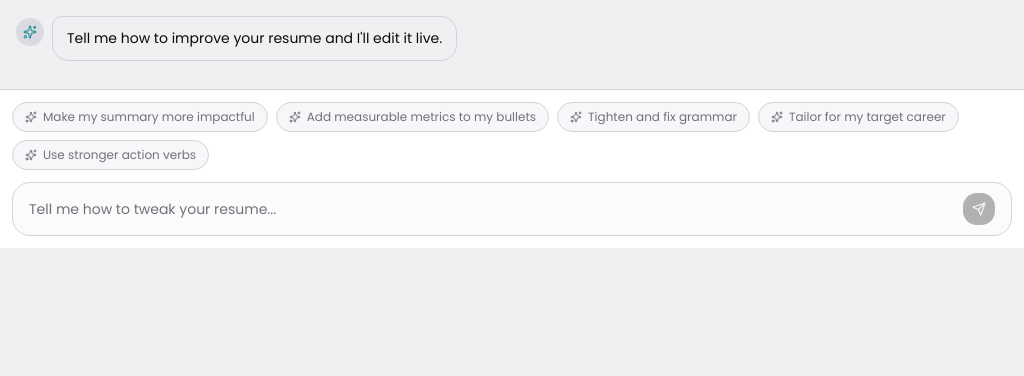
AIChatEditor conversation persistence › keeps conversations separate per resume
Click the button "Use stronger action verbs".
click(110, 155)  # box [12,140,209,170]
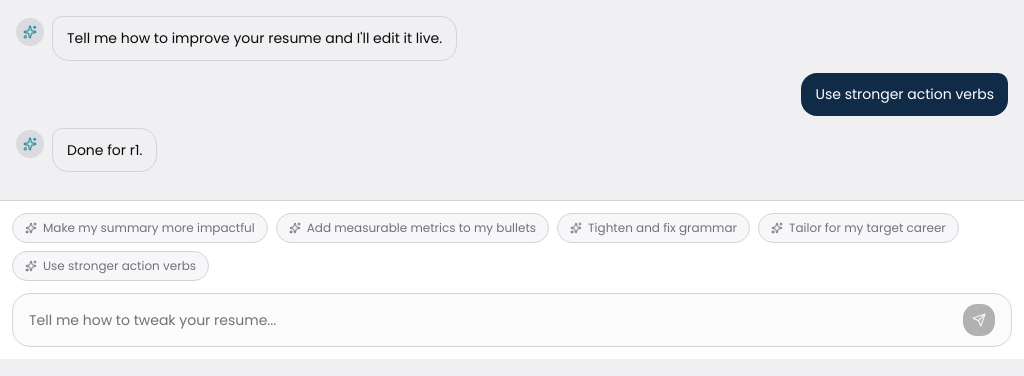
Result: the text "Done for r1." is shown at [52,128,157,172]
